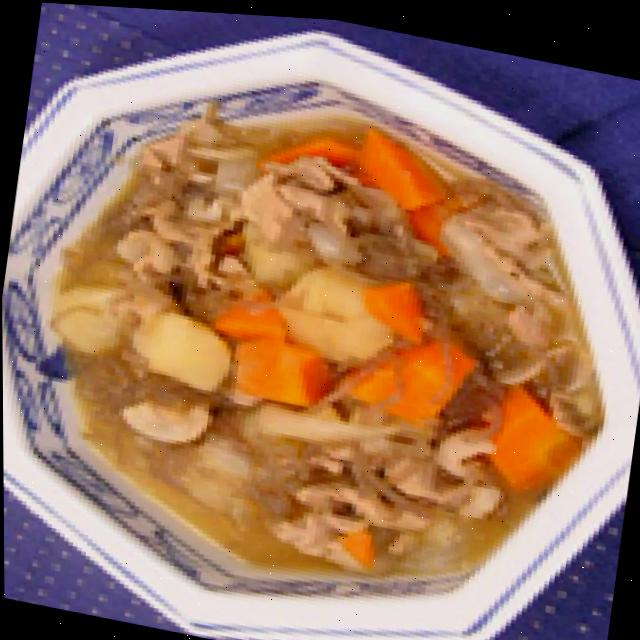牛肉菜式: (0, 51, 626, 635)
